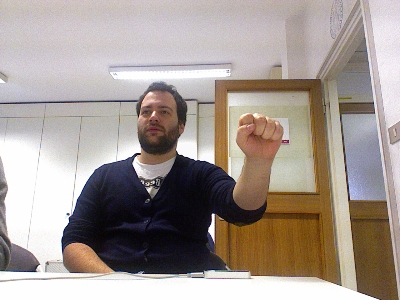石头: (235, 112, 284, 161)
